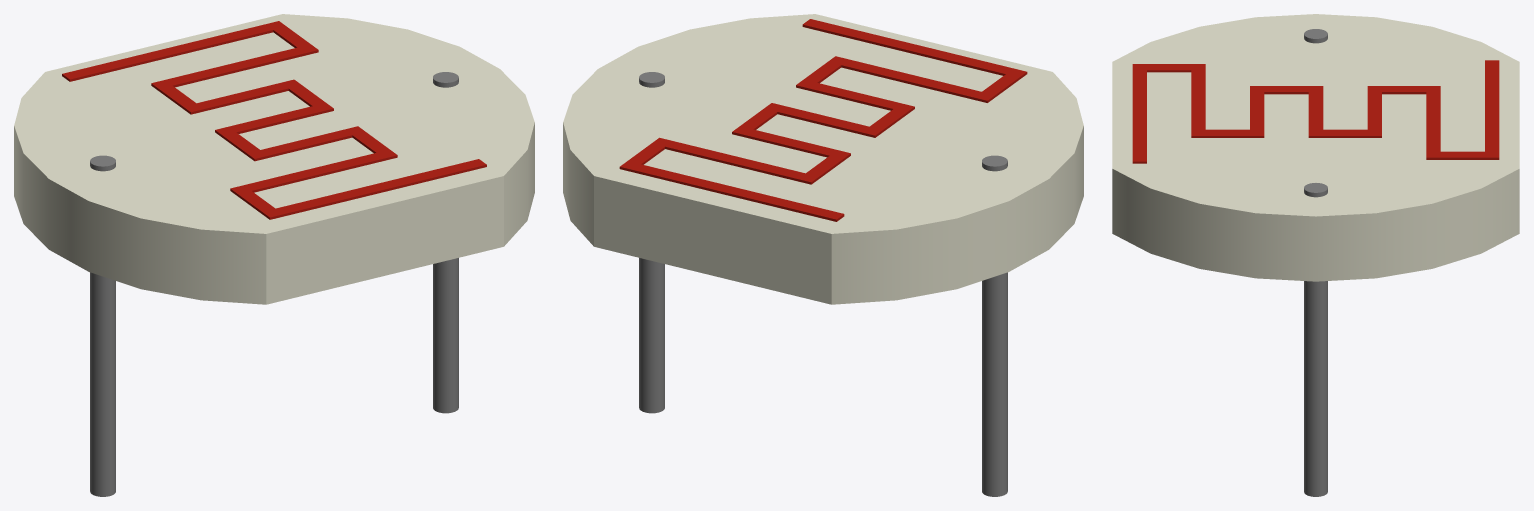
The model's file is OptoDevice__R_LDR_10x8.5mm_P7.6mm_Vertical.glb.
3 views of the same model, side by side, from view 1: azimuth 30°, elevation 25°; view 2: azimuth 150°, elevation 25°; view 3: azimuth 270°, elevation 25° (orthographic). The views are drawn at different scales.
Visible parts, largest first — view 1: R_LDR_10x8.5mm_P7.6mm_Vertical; view 2: R_LDR_10x8.5mm_P7.6mm_Vertical; view 3: R_LDR_10x8.5mm_P7.6mm_Vertical.
Boxes of the visible parts, box(x1,y1,x2,y2) form: R_LDR_10x8.5mm_P7.6mm_Vertical: box(14, 14, 534, 496); R_LDR_10x8.5mm_P7.6mm_Vertical: box(563, 14, 1083, 496); R_LDR_10x8.5mm_P7.6mm_Vertical: box(1112, 14, 1519, 496).
Size of the model in its own units: 0.01 by 0.007 by 0.0085.
